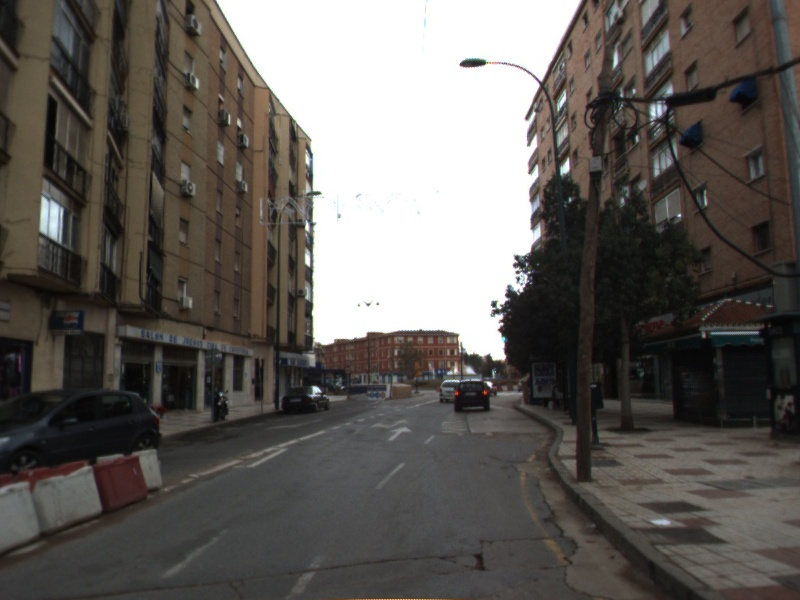STRAIGHT: (385, 424, 415, 443)
STRAIGHT_LEFT: (368, 417, 411, 431)
